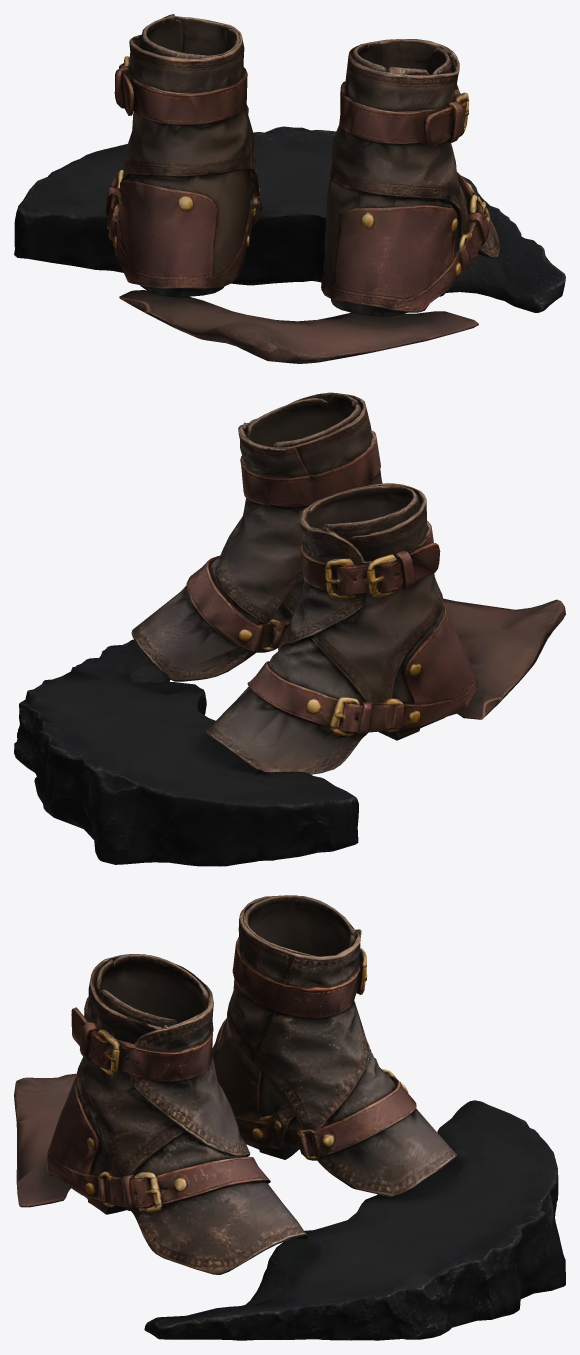
Rendered from drift-boots.glb.
The picture shows the model from 3 angles, top to bottom: view 1: azimuth 30°, elevation 25°; view 2: azimuth 150°, elevation 25°; view 3: azimuth 270°, elevation 25°; orthographic projection. The views are drawn at different scales.
Parts seen in each view (by area): view 1: tripo_node_df7b06d4-9030-434f-aa9d-3ffadd1d7c0c; view 2: tripo_node_df7b06d4-9030-434f-aa9d-3ffadd1d7c0c; view 3: tripo_node_df7b06d4-9030-434f-aa9d-3ffadd1d7c0c.
Boxes of the visible parts, box(x1,y1,x2,y2) form: tripo_node_df7b06d4-9030-434f-aa9d-3ffadd1d7c0c: box(14, 14, 565, 363); tripo_node_df7b06d4-9030-434f-aa9d-3ffadd1d7c0c: box(14, 392, 565, 866); tripo_node_df7b06d4-9030-434f-aa9d-3ffadd1d7c0c: box(14, 895, 565, 1340).
Bounding box in the file's own units: 0.8309 × 0.6208 × 0.999.
1 material, 1 textured.
